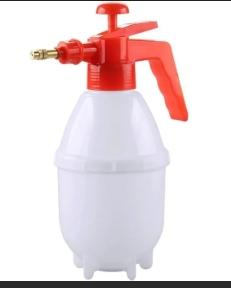PULVERISATEUR: (6, 0, 231, 288)
